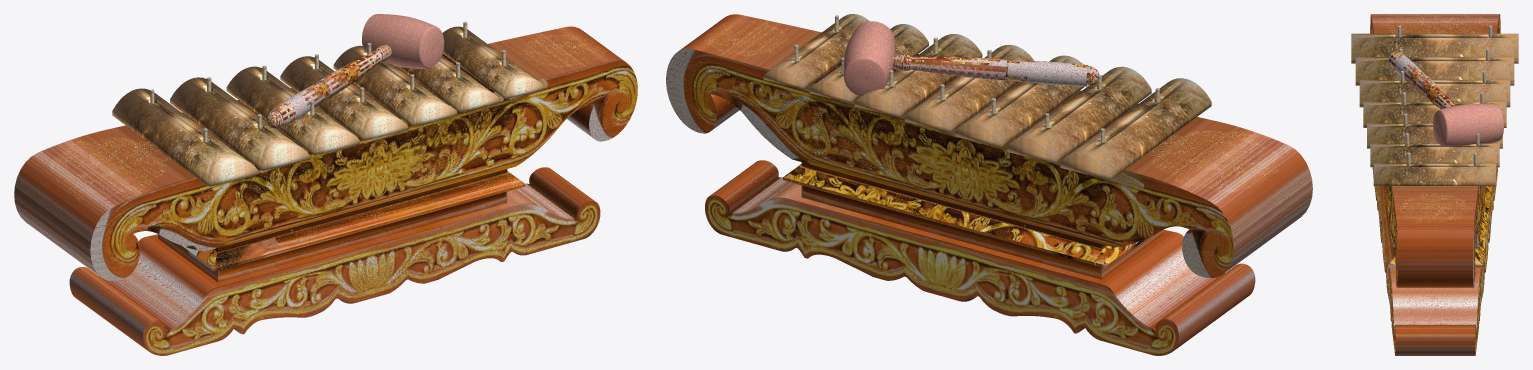
File: saron1.fbx
3 views of the same model, side by side, from view 1: azimuth 30°, elevation 25°; view 2: azimuth 150°, elevation 25°; view 3: azimuth 270°, elevation 25° (orthographic). The views are drawn at different scales.
Visible parts, largest first — view 1: group_24.004, group_23.008, group_24.002, group_23.006, group_23, group_6, group_2, group_23.003, group_3, group_25, group_5, group_4 (+10 smaller); view 2: group_24.003, group_23.002, group_24.002, group_23.006, group_23, group_6, group_2, group_23.003, group_26, group_3, group_25, group_5 (+11 smaller); view 3: group_24.002, group_23.006, group_6, group_2, group_1, group_3, group_25, group_7, group_5, group_4, group_26, group_23 (+4 smaller).
Boxes of the visible parts, bbox=[...] form: group_24.004: bbox=[90, 59, 637, 280]; group_23.008: bbox=[143, 201, 600, 355]; group_24.002: bbox=[14, 26, 624, 276]; group_23.006: bbox=[69, 167, 595, 350]; group_23: bbox=[173, 171, 525, 271]; group_6: bbox=[112, 88, 249, 186]; group_2: bbox=[170, 77, 301, 170]; group_23.003: bbox=[158, 191, 507, 282]; group_3: bbox=[226, 66, 351, 155]; group_25: bbox=[362, 14, 444, 69]; group_5: bbox=[280, 56, 400, 140]; group_4: bbox=[333, 45, 448, 126]; group_24.003: bbox=[666, 48, 1233, 278]; group_23.002: bbox=[705, 195, 1178, 355]; group_24.002: bbox=[679, 14, 1312, 273]; group_23.006: bbox=[710, 160, 1255, 350]; group_23: bbox=[783, 164, 1147, 268]; group_6: bbox=[1068, 78, 1211, 179]; group_2: bbox=[1015, 66, 1151, 163]; group_23.003: bbox=[801, 185, 1163, 279]; group_26: bbox=[893, 54, 1099, 86]; group_3: bbox=[963, 55, 1084, 147]; group_25: bbox=[843, 21, 895, 96]; group_5: bbox=[912, 44, 1034, 131]; group_24.002: bbox=[1371, 14, 1499, 287]; group_23.006: bbox=[1376, 199, 1493, 355]; group_6: bbox=[1351, 33, 1518, 63]; group_2: bbox=[1355, 57, 1514, 85]; group_1: bbox=[1373, 163, 1496, 186]; group_3: bbox=[1359, 80, 1510, 107]; group_25: bbox=[1433, 103, 1503, 146]; group_7: bbox=[1370, 143, 1499, 167]; group_5: bbox=[1363, 101, 1506, 127]; group_4: bbox=[1367, 123, 1502, 148]; group_26: bbox=[1388, 51, 1455, 109]; group_23: bbox=[1378, 186, 1492, 267].
Bounding box in the file's own units: 675 × 259 × 214.
Materials: 12 (10 with a texture image).
